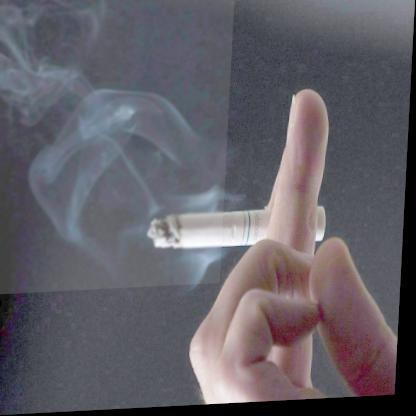smoke: (0, 0, 235, 295)
